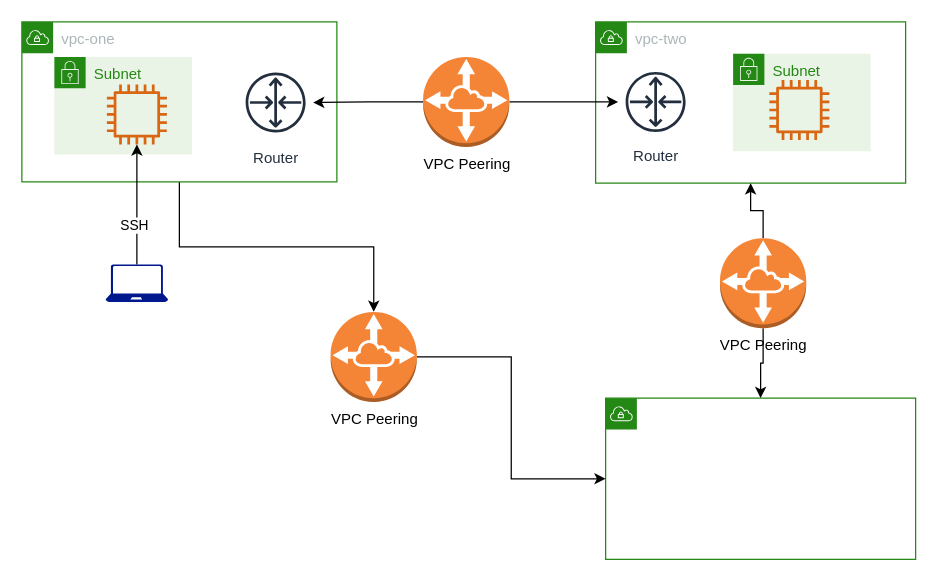
Image size: 938x581. Some labels were removed from this diagram. The centre of each missing label's shape, as x and y in pixels:
"Public IP" goes at point 136,114.
"vpc-three" goes at point 760,478.
